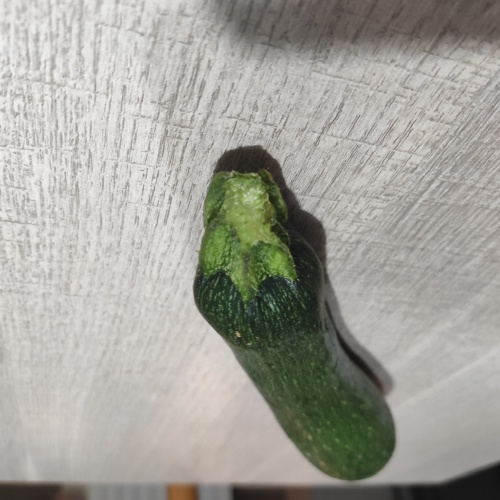zucchine: (203, 202, 403, 479)
